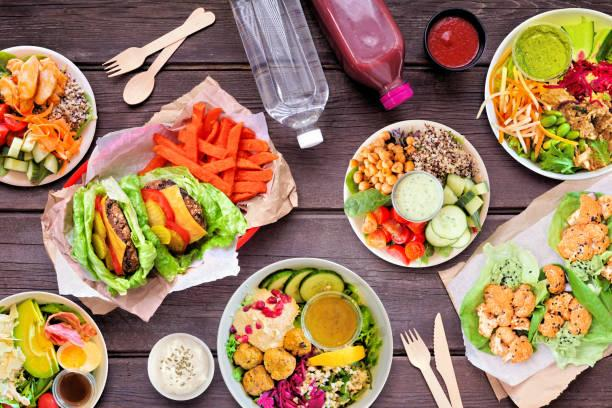Braised Crucian Carp: (50, 75, 297, 322), (216, 257, 388, 408), (484, 5, 612, 181), (343, 119, 487, 268)
